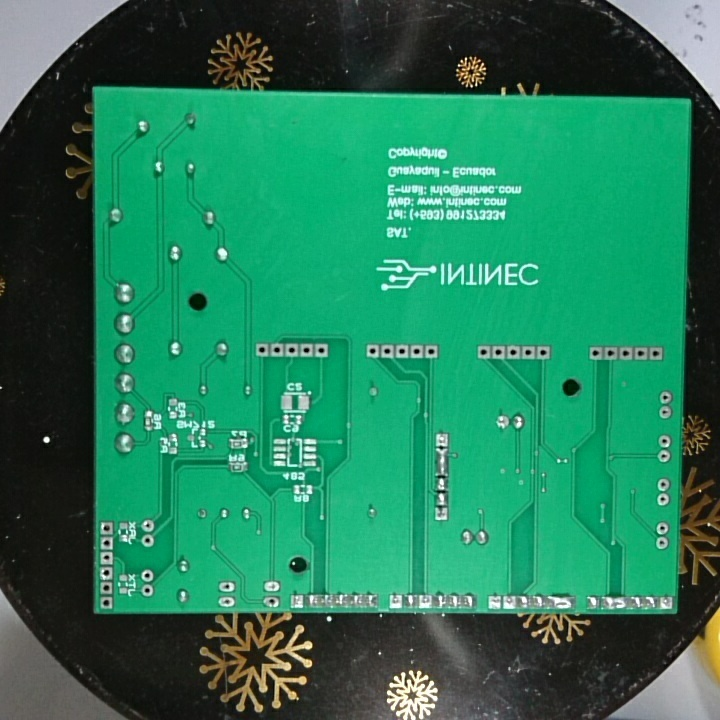F: (216, 594, 239, 609), (435, 430, 453, 449), (474, 343, 491, 363), (284, 340, 300, 361), (418, 590, 433, 612), (535, 344, 553, 362), (490, 343, 506, 363), (363, 343, 380, 361), (485, 592, 502, 610), (387, 591, 403, 610), (423, 343, 438, 363), (618, 343, 633, 363), (270, 339, 284, 360), (253, 341, 270, 358), (633, 344, 647, 364), (218, 580, 238, 594), (507, 343, 520, 364), (408, 343, 424, 360), (141, 516, 157, 533), (604, 344, 619, 362), (261, 594, 279, 609), (98, 520, 116, 535), (290, 593, 304, 612), (648, 344, 661, 364), (262, 580, 282, 593), (313, 343, 329, 359), (298, 341, 313, 358), (433, 506, 450, 521), (381, 343, 395, 361), (521, 345, 535, 363), (502, 593, 516, 611), (196, 505, 210, 523), (657, 405, 673, 420), (657, 449, 672, 465), (655, 477, 671, 492), (100, 535, 116, 550), (99, 549, 116, 563), (396, 342, 409, 360), (655, 534, 668, 552), (494, 415, 507, 433), (589, 345, 603, 361), (656, 435, 672, 449), (656, 492, 670, 508), (141, 534, 157, 548), (659, 390, 674, 404), (655, 521, 669, 536), (99, 564, 113, 579), (98, 580, 113, 594), (367, 384, 381, 399), (141, 583, 154, 598), (99, 596, 114, 608), (659, 595, 671, 609), (141, 569, 153, 582)
P: (434, 446, 451, 478), (548, 594, 575, 612), (601, 595, 630, 610)
